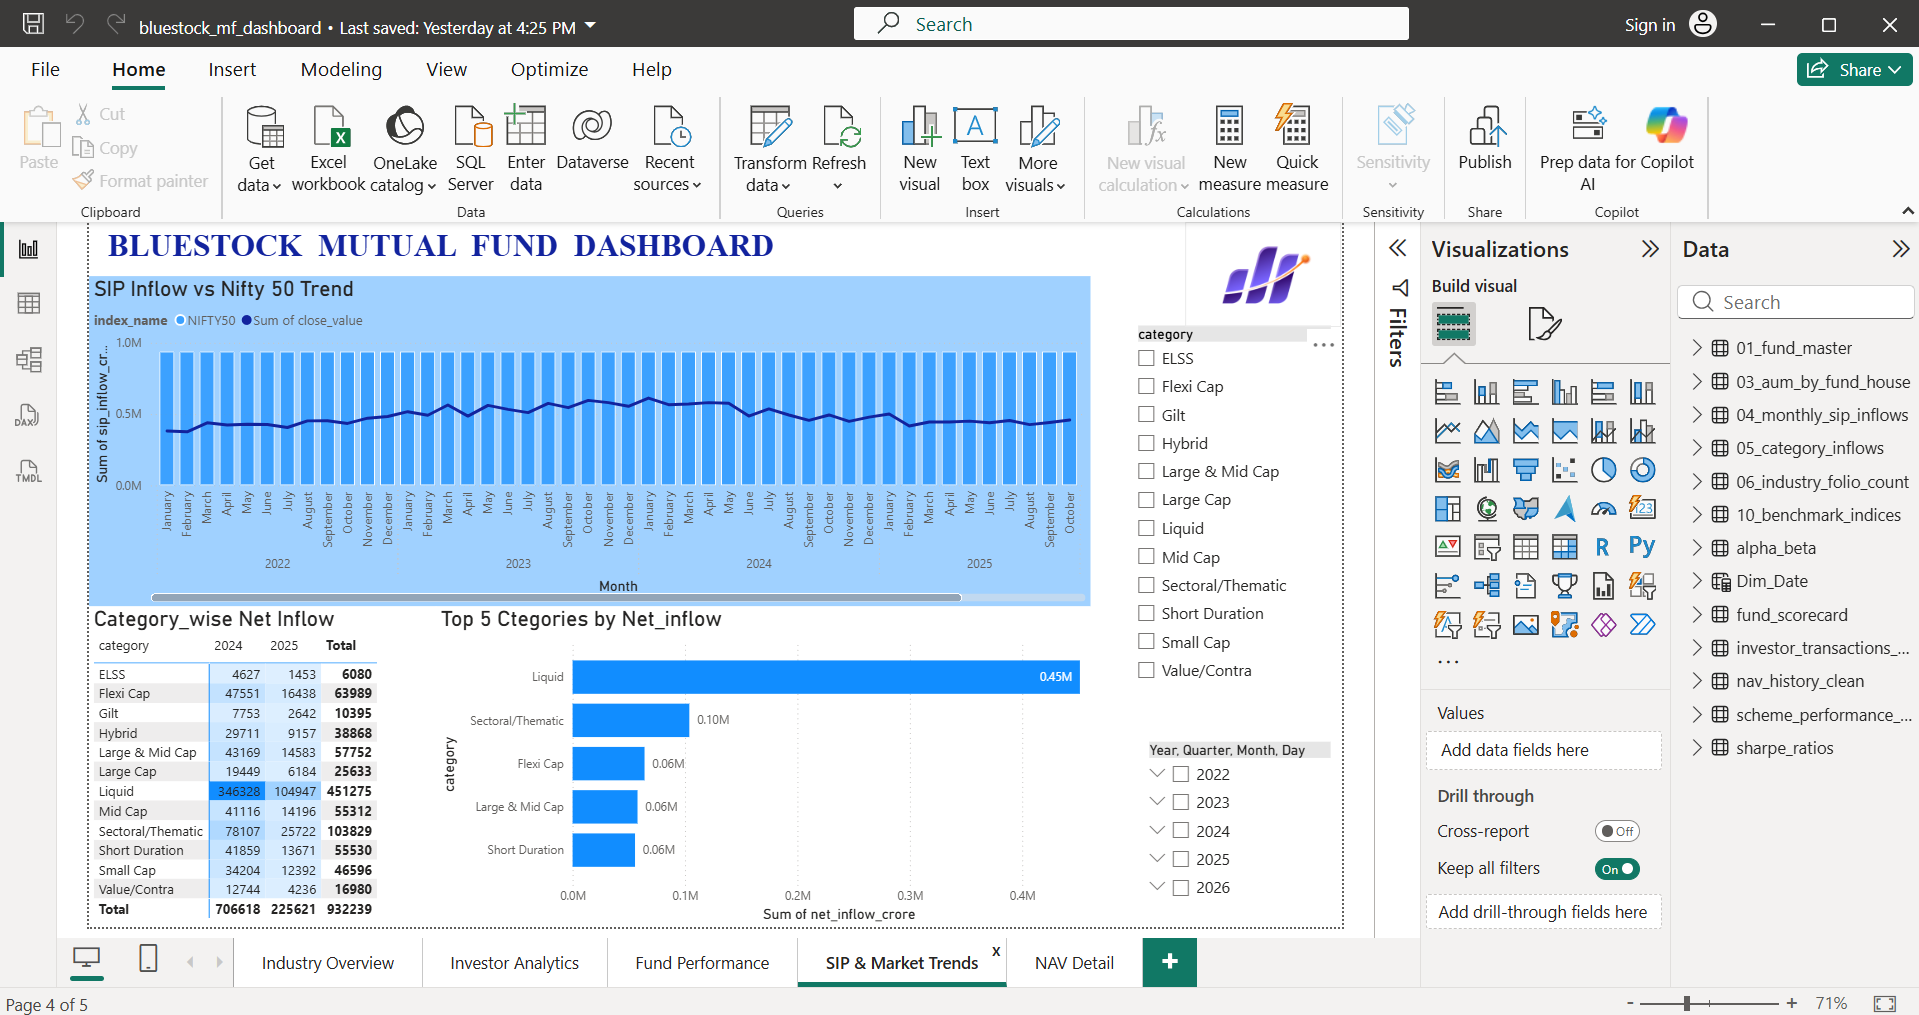

What the dashboard file says about the page in this screenshot:
{"tool":"powerbi","page":{"name":"SIP & Market Trends","canvas":[1280,720],"ordinal":3},"visuals":[{"type":"lineClusteredColumnComboChart","title":"SIP Inflow vs Nifty 50 Trend","fields":{"Y":["Sum(04_monthly_sip_inflows.sip_inflow_crore)"],"Y2":["Sum(10_benchmark_indices.close_value)"],"Category":["Dim_Date.Date.Variation.Date Hierarchy.Year","Dim_Date.Date.Variation.Date Hierarchy.Month"],"Series":["10_benchmark_indices.index_name"]},"box":[0,54.8,1022.6,337.1],"z":0},{"type":"pivotTable","title":"Category_wise Net Inflow ","fields":{"Rows":["05_category_inflows.category"],"Columns":["05_category_inflows.month.Variation.Date Hierarchy.Year"],"Values":["Sum(05_category_inflows.net_inflow_crore)"]},"box":[0,391.9,354.8,327.4],"z":1000},{"type":"clusteredBarChart","title":"Top 5 Ctegories by Net_inflow","fields":{"Category":["05_category_inflows.category"],"Y":["Sum(05_category_inflows.net_inflow_crore)"]},"box":[354.8,391.9,703.2,327.4],"z":2000},{"type":"slicer","fields":{"Values":["05_category_inflows.category"]},"box":[1058.1,100,222.6,403.2],"z":3000},{"type":"slicer","fields":{"Values":["Dim_Date.Date.Variation.Date Hierarchy.Year","Dim_Date.Date.Variation.Date Hierarchy.Quarter","Dim_Date.Date.Variation.Date Hierarchy.Month","Dim_Date.Date.Variation.Date Hierarchy.Day"]},"box":[1069.4,525.8,211.3,193.5],"z":4000},{"type":"textbox","box":[14.5,0,816.1,54.8],"z":5000},{"type":"image","box":[1118.7,0,161.3,108.1],"z":6000}]}

Visuals, with their boxes on the page's 1280x720 design canvas (x1, y1, x2, y2). These are canvas units, not pixel positions in the 1919x1015 screenshot, which may show the page scaled, cropped or inside an application window:
"SIP Inflow vs Nifty 50 Trend" lineClusteredColumnComboChart: left=0, top=55, right=1023, bottom=392
"Category_wise Net Inflow " pivotTable: left=0, top=392, right=355, bottom=719
"Top 5 Ctegories by Net_inflow" clusteredBarChart: left=355, top=392, right=1058, bottom=719
slicer - 05_category_inflows.category: left=1058, top=100, right=1281, bottom=503
slicer - Dim_Date.Date.Variation.Date Hierarchy.Year x Dim_Date.Date.Variation.Date Hierarchy.Quarter: left=1069, top=526, right=1281, bottom=719
textbox: left=14, top=0, right=831, bottom=55
image: left=1119, top=0, right=1280, bottom=108
